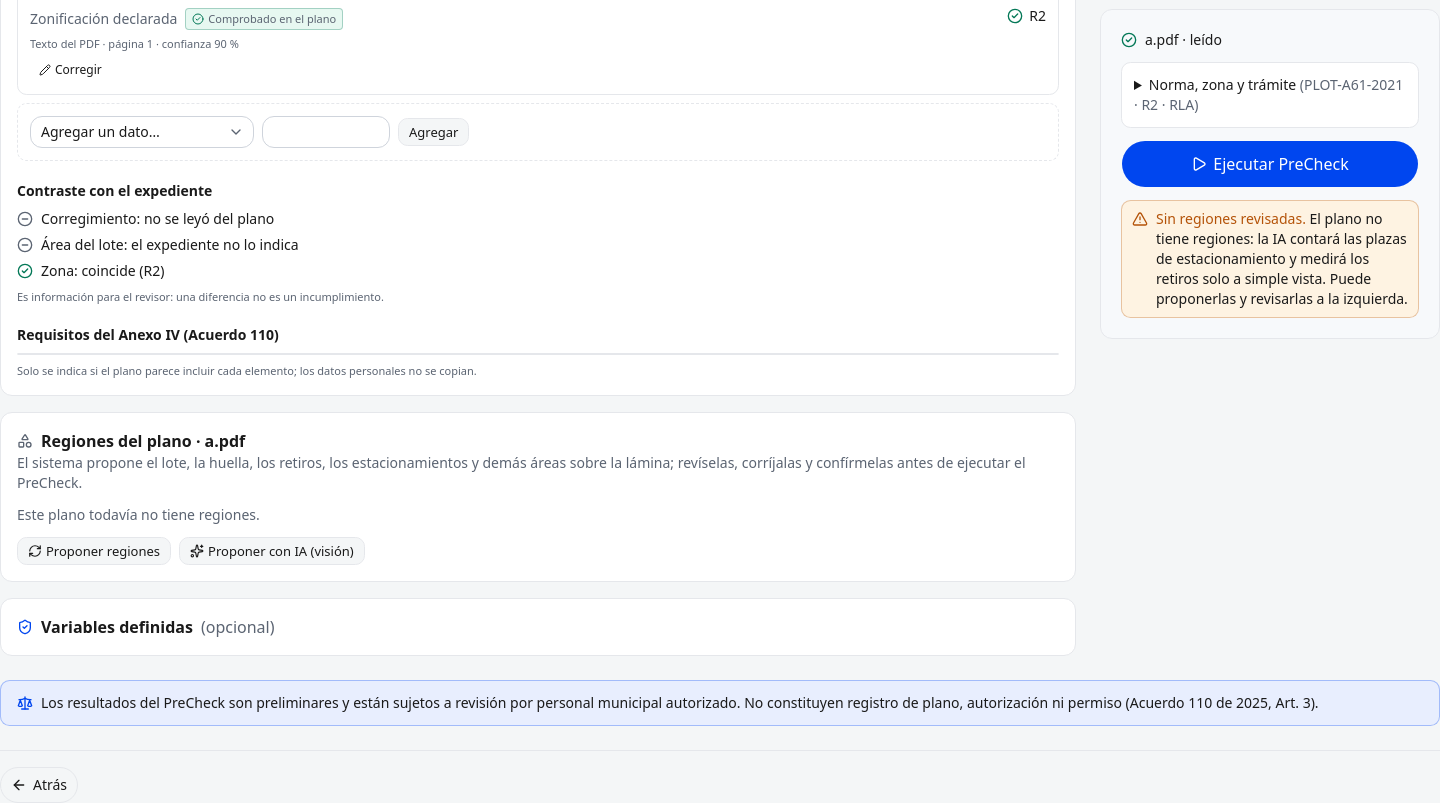
Test: paso 5: variables definidas por el arquitecto › un valor imposible en lo definido bloquea y dice cuál
This screenshot has width=1440, height=803.
(page scrolled)
Click the heading "Variables definidas (opcional)" at [146, 627], box [17,616,274,638]
(page scrolled)
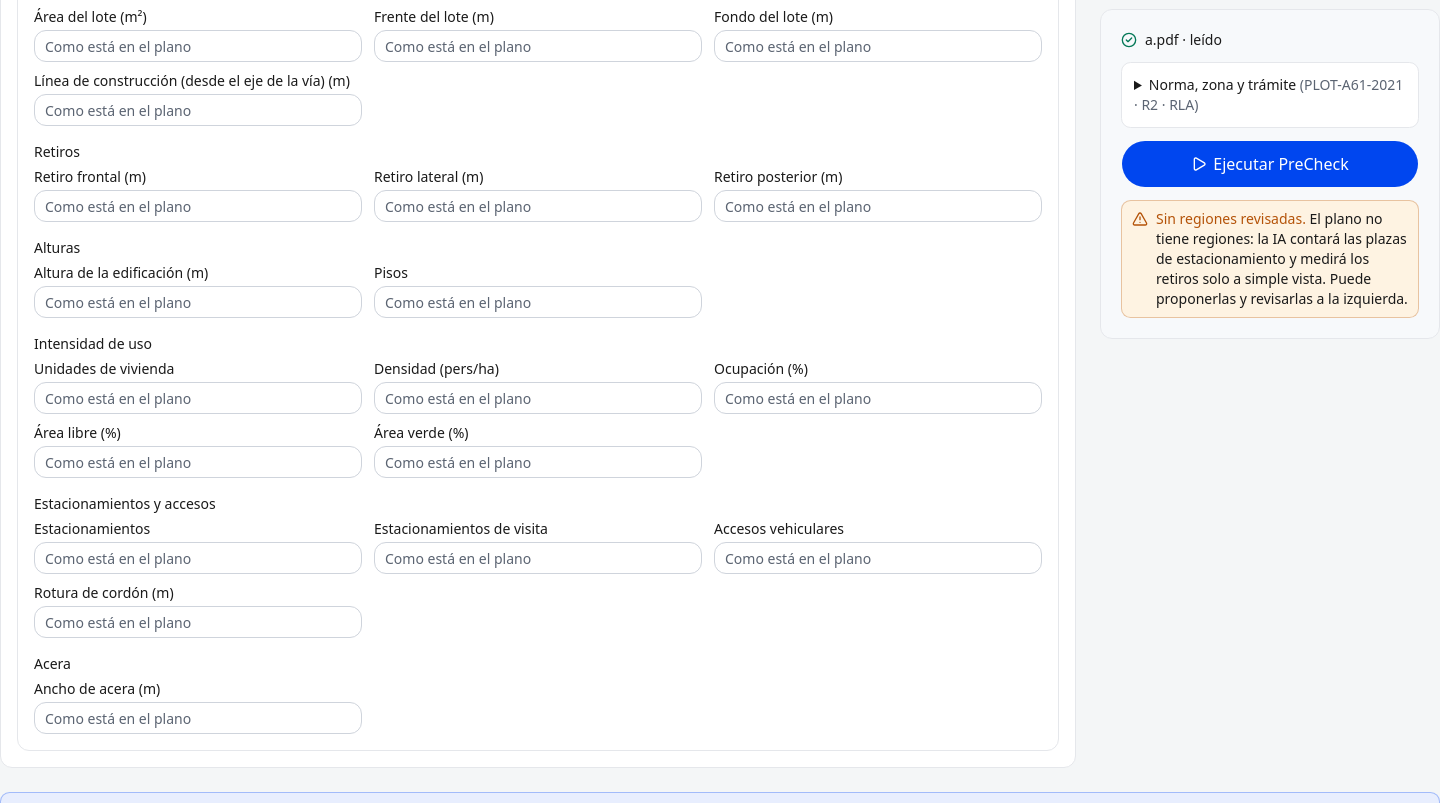
Type "120" into the field labelled "Ocupación (%)" at [878, 398], box [714,382,1042,414]
(page scrolled)
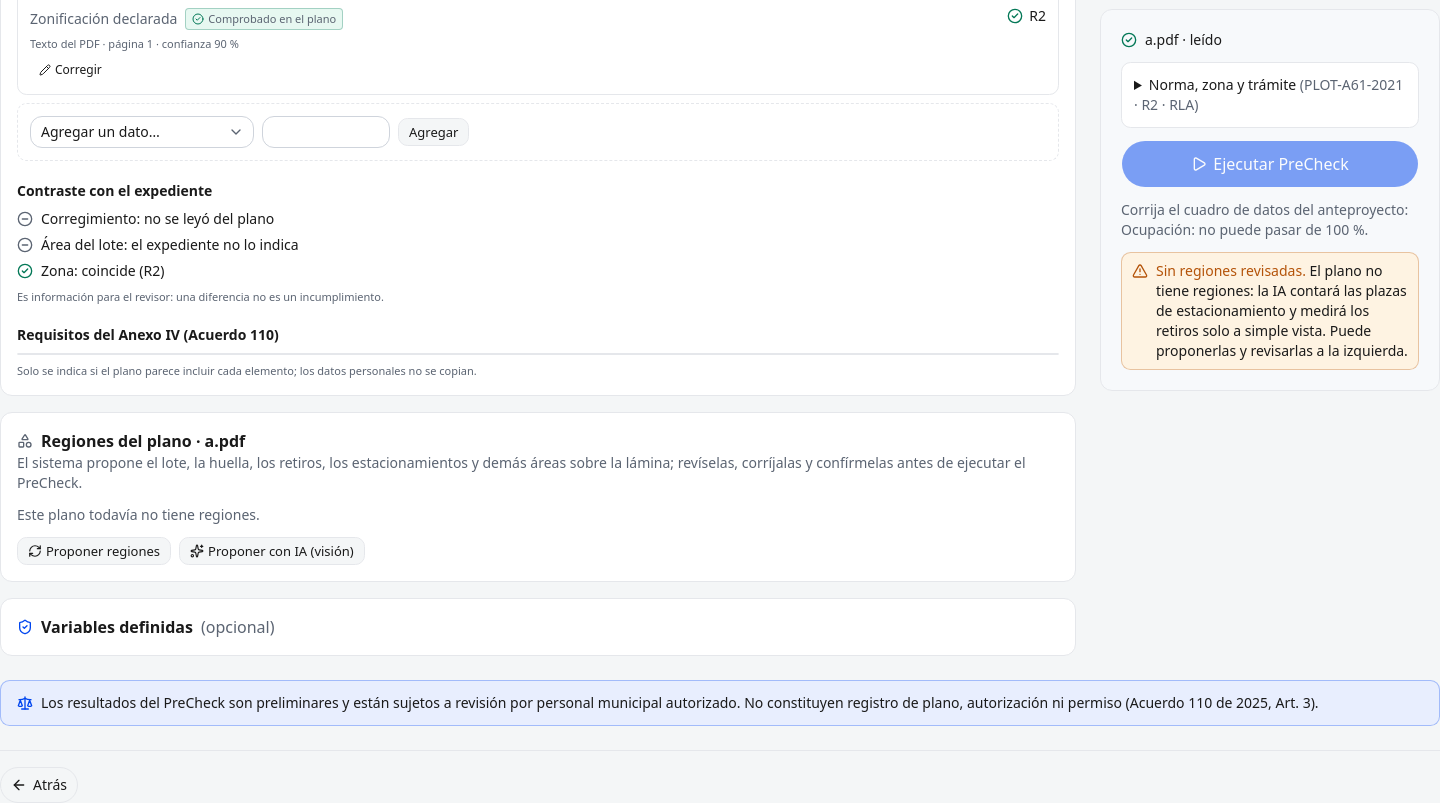
Now the button "Ejecutar PreCheck" is disabled, box [1121,140,1419,188]
